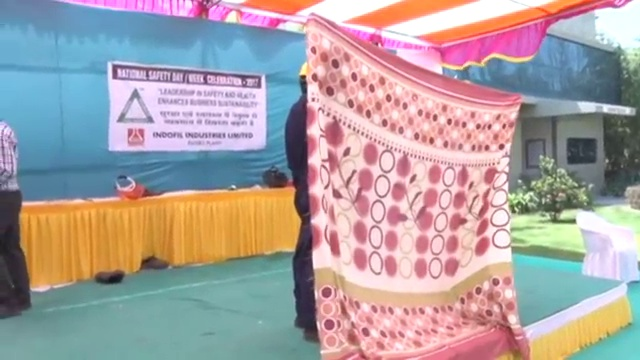person: (282, 61, 323, 345), (1, 121, 31, 320)
